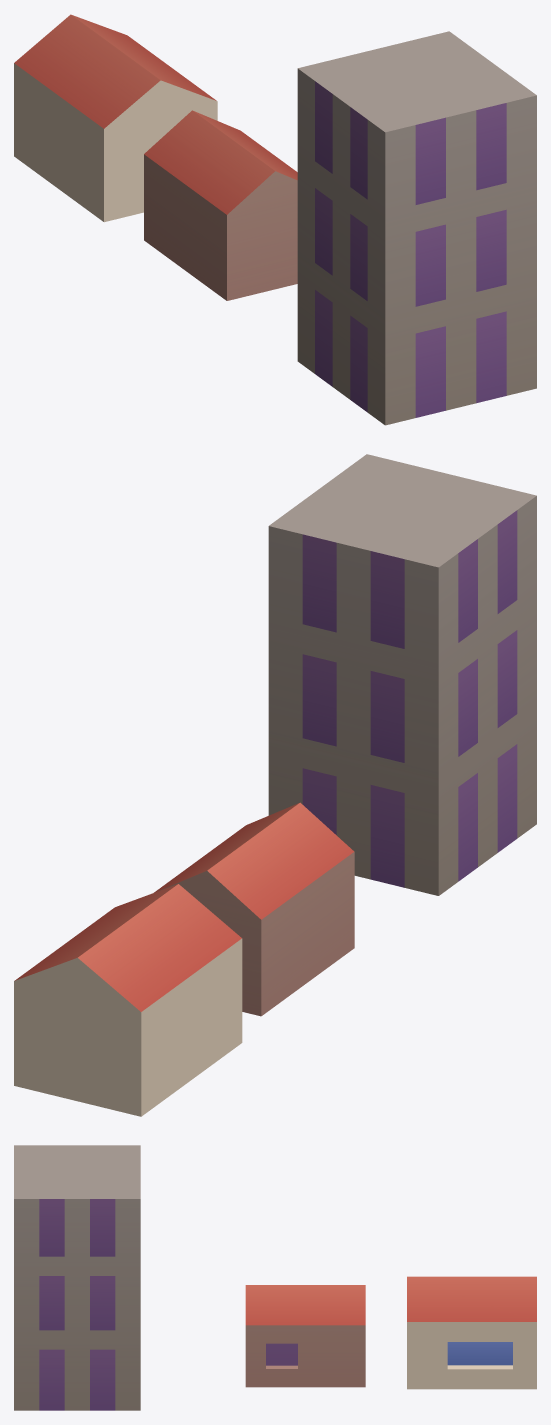
Rendered from props.glb.
3 renders of one model, top to bottom at view 1: azimuth 30°, elevation 25°; view 2: azimuth 150°, elevation 25°; view 3: azimuth 270°, elevation 25°, orthographic. The views are drawn at different scales.
Visible parts, largest first — view 1: Building1, House2, House1; view 2: Building1, House2, House1; view 3: Building1, House2, House1.
Part boxes in pixels (bbox=[...]): Building1: bbox=[297, 31, 536, 425]; House2: bbox=[14, 14, 217, 222]; House1: bbox=[144, 110, 297, 300]; Building1: bbox=[268, 454, 536, 895]; House2: bbox=[14, 884, 242, 1116]; House1: bbox=[154, 802, 354, 1016]; Building1: bbox=[14, 1145, 140, 1410]; House2: bbox=[407, 1276, 536, 1389]; House1: bbox=[245, 1285, 365, 1387].
Bounding box in the file's own units: 0.5763 × 1 × 2.25.
Materials: 1 (1 with a texture image).
